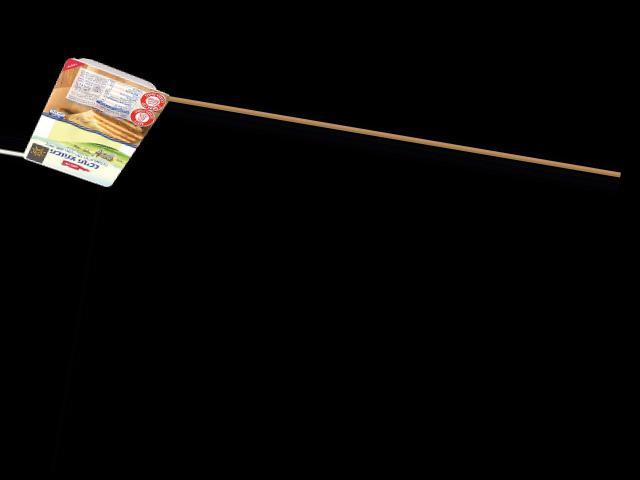cheese: (31, 55, 153, 190)
